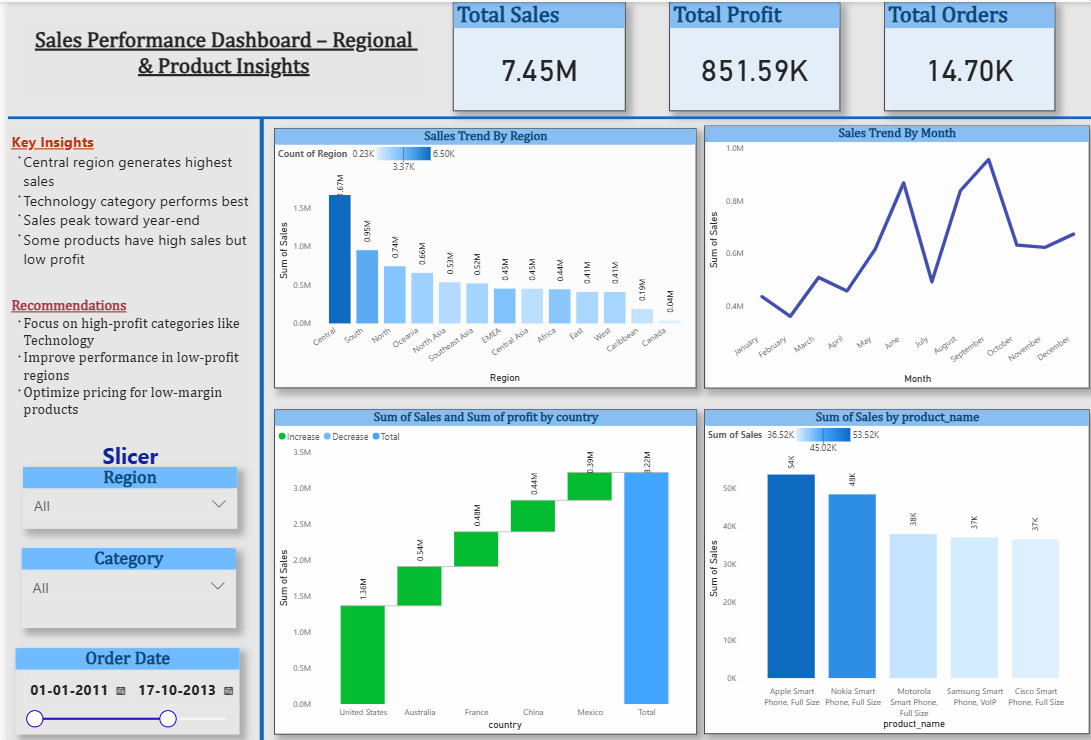

The page's visual inventory and layout, read from the dashboard file:
{"tool":"powerbi","page":{"name":"Page 1","canvas":[1600,1100],"ordinal":0},"visuals":[{"type":"textbox","box":[0,640.8,360.6,439],"z":0},{"type":"card","title":"Total Sales","fields":{"Values":["Sum(Orders.sales)"]},"box":[655.7,0,254.1,160.7],"z":1000},{"type":"card","title":"Total Profit","fields":{"Values":["Sum(Orders.profit)"]},"box":[975.2,0,252.2,160.7],"z":2000},{"type":"lineChart","title":"Sales Trend By Month","fields":{"Y":["Sum(Orders.sales)"],"Category":["Orders.order_date.Variation.Date Hierarchy.Year","Orders.order_date.Variation.Date Hierarchy.Month"]},"box":[1026.6,182.5,567.7,387.1],"z":3000},{"type":"clusteredColumnChart","title":"Salles Trend By Region","fields":{"Category":["Orders.region"],"Y":["Sum(Orders.sales)"]},"box":[392.3,186.8,622.1,383],"z":4000},{"type":"waterfallChart","fields":{"Y":["Sum(Orders.sales)"],"Category":["Orders.country"]},"box":[392.6,600.9,623,479.2],"z":5000},{"type":"clusteredColumnChart","fields":{"Y":["Sum(Orders.sales)"],"Category":["Orders.product_name"]},"box":[1027.5,601.6,567.9,478.3],"z":6000},{"type":"slicer","title":"Order Date","fields":{"Values":["Orders.order_date"]},"box":[11.2,952.8,330.7,127],"z":7000},{"type":"slicer","title":"Category","fields":{"Values":["Orders.category"]},"box":[20.6,806.1,315.7,117.7],"z":8000},{"type":"slicer","title":"Region","fields":{"Values":["Orders.region"]},"box":[22.4,685.6,315.7,91.5],"z":9000},{"type":"shape","box":[355.7,171.4,36.9,929],"z":10000},{"type":"shape","box":[0,158.8,1599.2,24.3],"z":11000},{"type":"textbox","box":[22.4,35.5,592.2,104.6],"z":13000},{"type":"card","title":"Total Orders","fields":{"Values":["Count(Orders.order_id)"]},"box":[1292.8,0,252.2,160.7],"z":14000},{"type":"textbox","box":[0,186.8,360.6,244.7],"z":15000},{"type":"textbox","box":[0,431.3,355.7,210.1],"z":16000}]}

Visuals, with their boxes in screenshot pixels (x1, y1, x2, y2), scaled from the page's 1600x1100 canvas onto the 1091x740 screenshot:
textbox: bbox=(0, 431, 246, 726)
"Total Sales" card: bbox=(447, 0, 620, 108)
"Total Profit" card: bbox=(665, 0, 837, 108)
"Sales Trend By Month" lineChart: bbox=(700, 123, 1087, 383)
"Salles Trend By Region" clusteredColumnChart: bbox=(267, 126, 692, 383)
waterfallChart - Sum(Orders.sales) x Orders.country: bbox=(268, 404, 693, 727)
clusteredColumnChart - Sum(Orders.sales) x Orders.product_name: bbox=(701, 405, 1088, 726)
"Order Date" slicer: bbox=(8, 641, 233, 726)
"Category" slicer: bbox=(14, 542, 229, 621)
"Region" slicer: bbox=(15, 461, 231, 523)
shape: bbox=(243, 115, 268, 739)
shape: bbox=(0, 107, 1090, 123)
textbox: bbox=(15, 24, 419, 94)
"Total Orders" card: bbox=(882, 0, 1053, 108)
textbox: bbox=(0, 126, 246, 290)
textbox: bbox=(0, 290, 243, 431)
